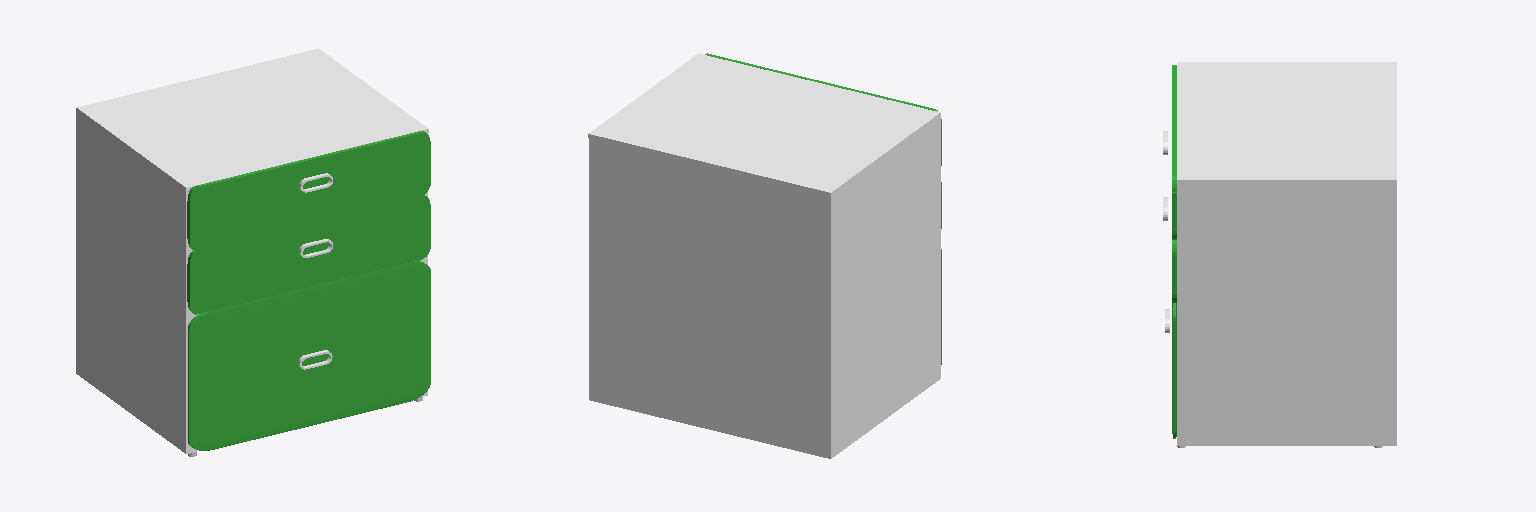
The model's file is StorageFurniture_StuvaFritidsChestGreen.obj.
3 renders of one model, left to right at view 1: azimuth 30°, elevation 25°; view 2: azimuth 150°, elevation 25°; view 3: azimuth 270°, elevation 25°, orthographic.
Visible parts, largest first — view 1: obj_0; view 2: obj_0; view 3: obj_0.
Part boxes in pixels (x1,y1,x2,y2): obj_0: (76, 49, 430, 456); obj_0: (588, 53, 941, 458); obj_0: (1163, 62, 1396, 447).
Bounding box in the file's own units: 60 × 64 × 50.